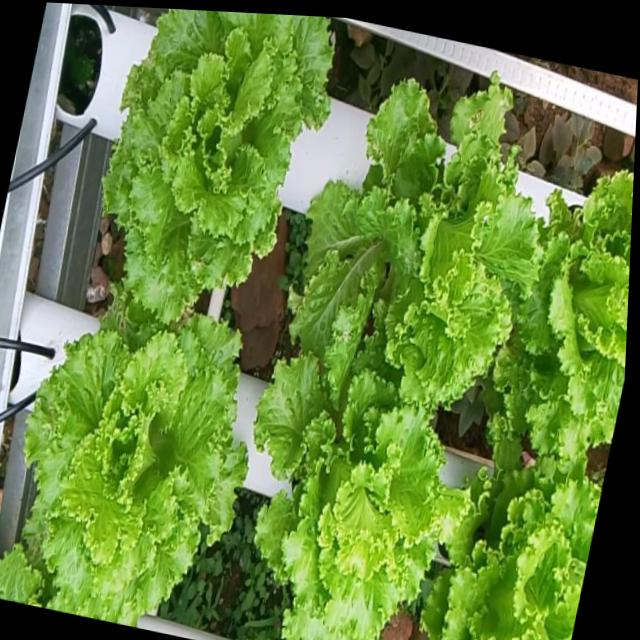Mature: (296, 77, 555, 420), (0, 320, 255, 631), (104, 9, 338, 335), (261, 349, 472, 640), (508, 166, 634, 456), (435, 460, 605, 640)
